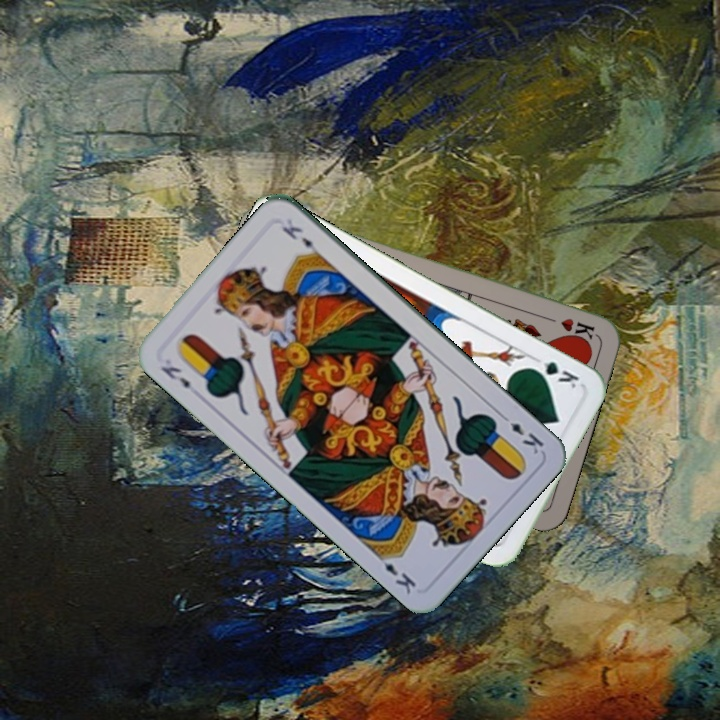EK: (496, 410, 547, 457), (156, 362, 193, 392)
GK: (525, 357, 581, 391)
HK: (540, 312, 598, 342)
